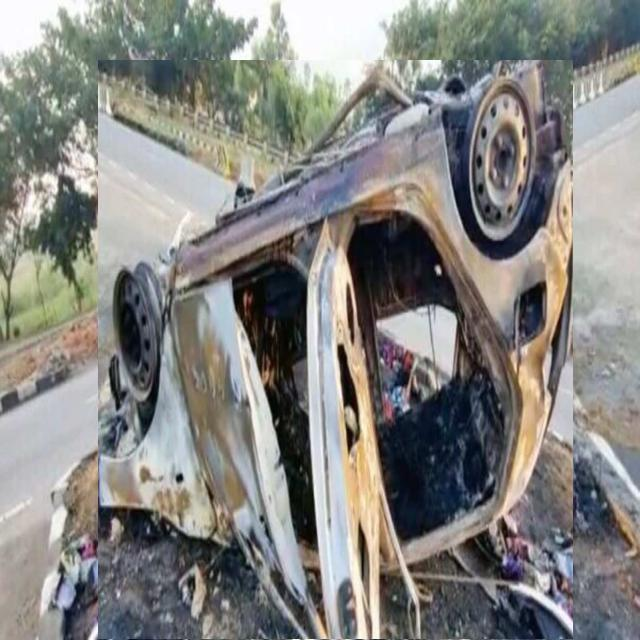accident: (99, 60, 573, 639)
